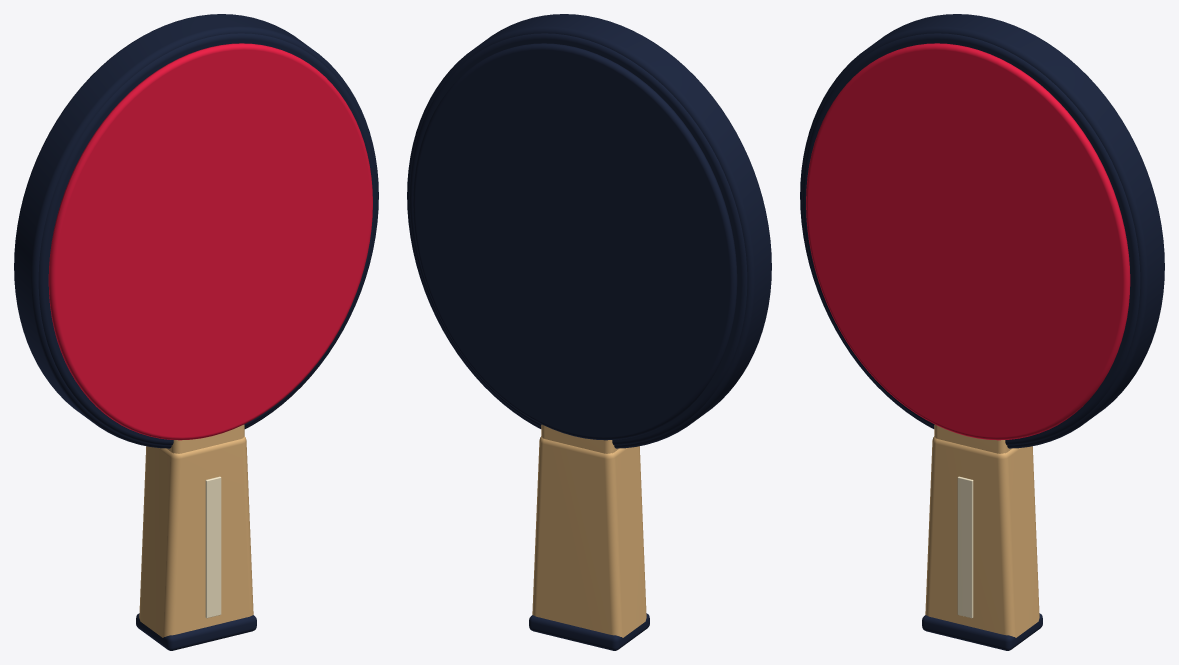
The model's file is Classic.fbx.
3 renders of one model, left to right at view 1: azimuth 30°, elevation 25°; view 2: azimuth 150°, elevation 25°; view 3: azimuth 330°, elevation 25°, orthographic.
Parts seen in each view (by area): view 1: FrontRubber, WoodHandle, OuterRim, RimLip, HandleInlay, HandleButt, Neck; view 2: BackRubber, WoodHandle, OuterRim, RimLip, HandleButt, Neck; view 3: FrontRubber, WoodHandle, OuterRim, RimLip, HandleInlay, HandleButt, Neck.
Boxes of the visible parts, bbox=[...] form: FrontRubber: bbox=[48, 43, 372, 440]; WoodHandle: bbox=[139, 436, 253, 637]; OuterRim: bbox=[14, 14, 378, 448]; RimLip: bbox=[38, 33, 376, 445]; HandleInlay: bbox=[205, 476, 221, 618]; HandleButt: bbox=[136, 613, 256, 650]; Neck: bbox=[166, 424, 244, 453]; BackRubber: bbox=[413, 43, 737, 440]; WoodHandle: bbox=[532, 436, 646, 637]; OuterRim: bbox=[407, 14, 771, 448]; RimLip: bbox=[409, 33, 747, 445]; HandleButt: bbox=[529, 613, 649, 650]; Neck: bbox=[541, 424, 619, 453]; FrontRubber: bbox=[806, 43, 1130, 440]; WoodHandle: bbox=[925, 436, 1039, 637]; OuterRim: bbox=[800, 14, 1164, 448]; RimLip: bbox=[802, 33, 1140, 445]; HandleInlay: bbox=[957, 476, 973, 618]; HandleButt: bbox=[922, 613, 1042, 650]; Neck: bbox=[934, 424, 1012, 453].
Size of the model in its own units: 58 by 96.65 by 10.2.
